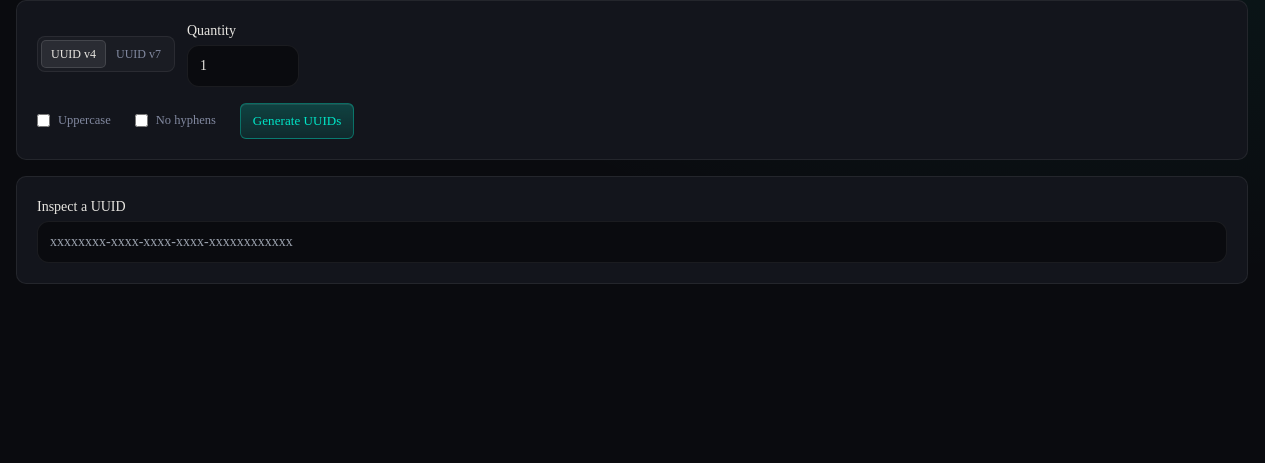
Test: UuidGeneratorClient › generates the requested quantity and applies formatting toggles
Step 1. Replace the text in the number field labelled "Quantity" with "2" → (243, 66), box [187, 45, 299, 87]
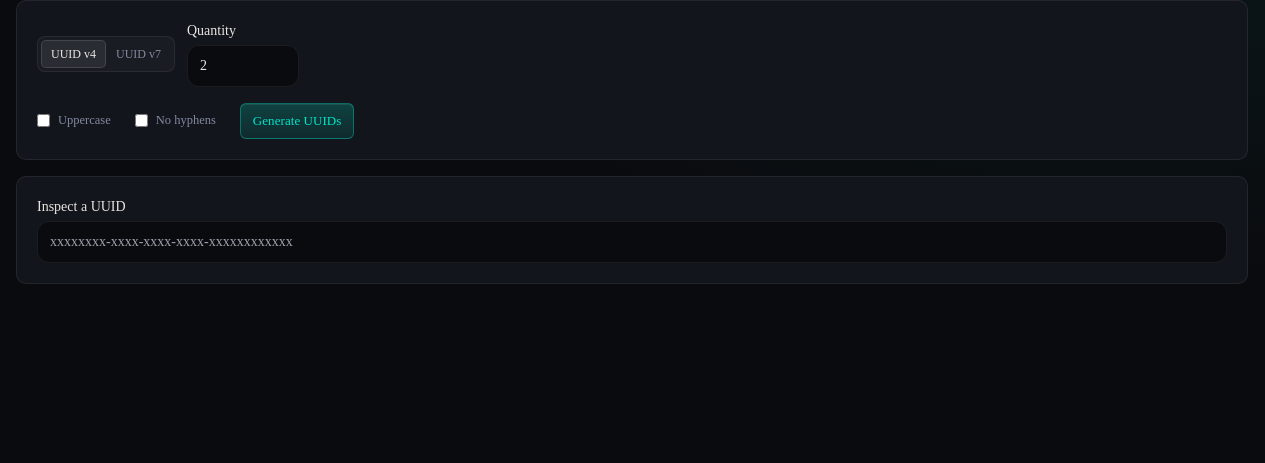
Step 2. Click the checkbox labelled "Uppercase" → (44, 121), box [37, 114, 50, 127]
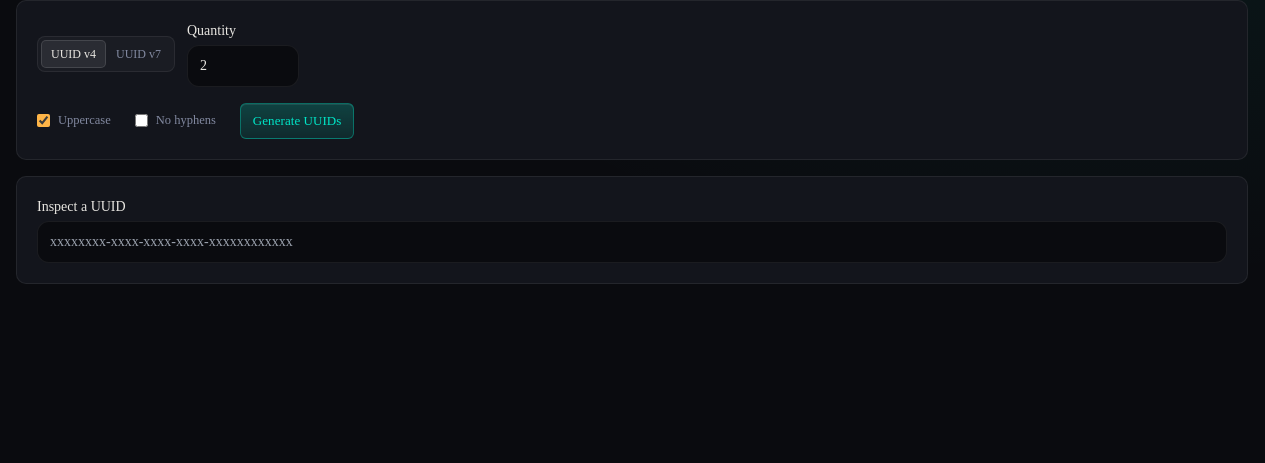
Step 3. Click the checkbox labelled "No hyphens" → (141, 121), box [135, 114, 148, 127]
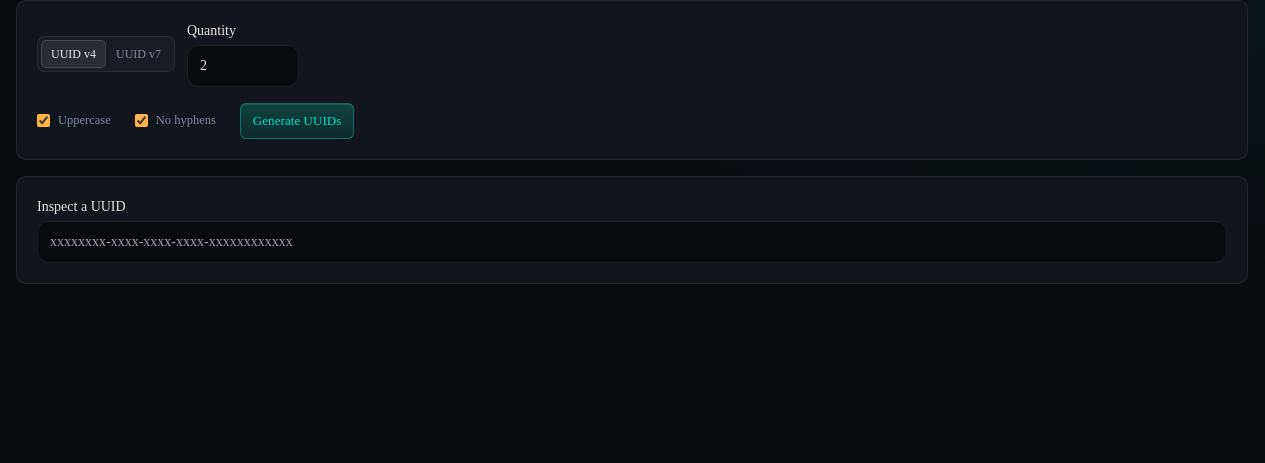
Step 4. Click the button "Generate UUIDs" → (297, 121), box [240, 103, 354, 138]
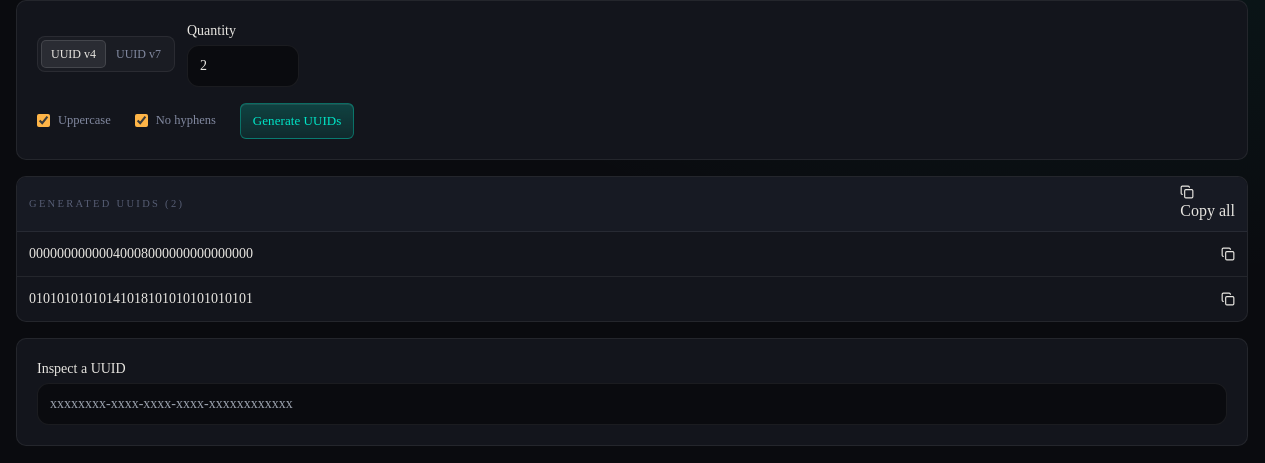
Expected: the heading "Generated UUIDs (2)" is shown, [29, 196, 184, 211]
Expected: the text "00000000000040008000000000000000" is shown, [29, 244, 253, 264]
Expected: the text "01010101010141018101010101010101" is shown, [29, 288, 253, 308]
